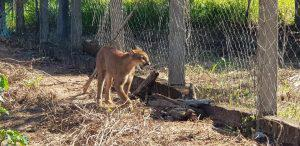OncaParda: (77, 45, 154, 111)
